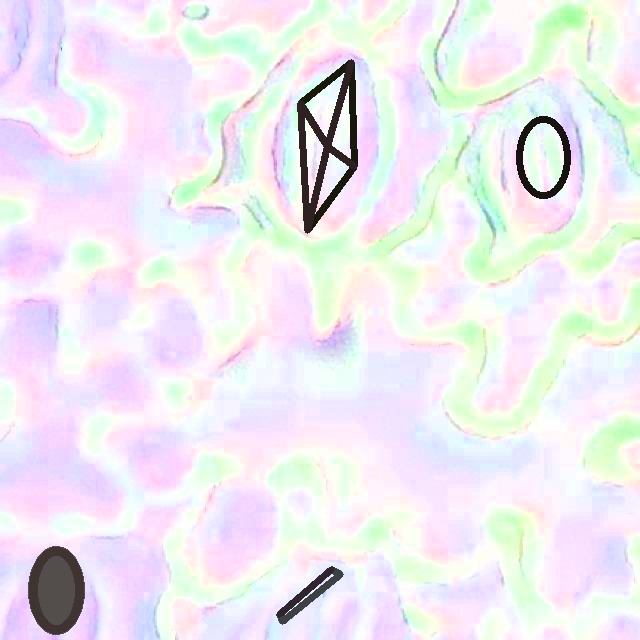close: (297, 59, 357, 233), (276, 566, 343, 624)
open: (28, 546, 84, 635), (515, 115, 571, 199)
